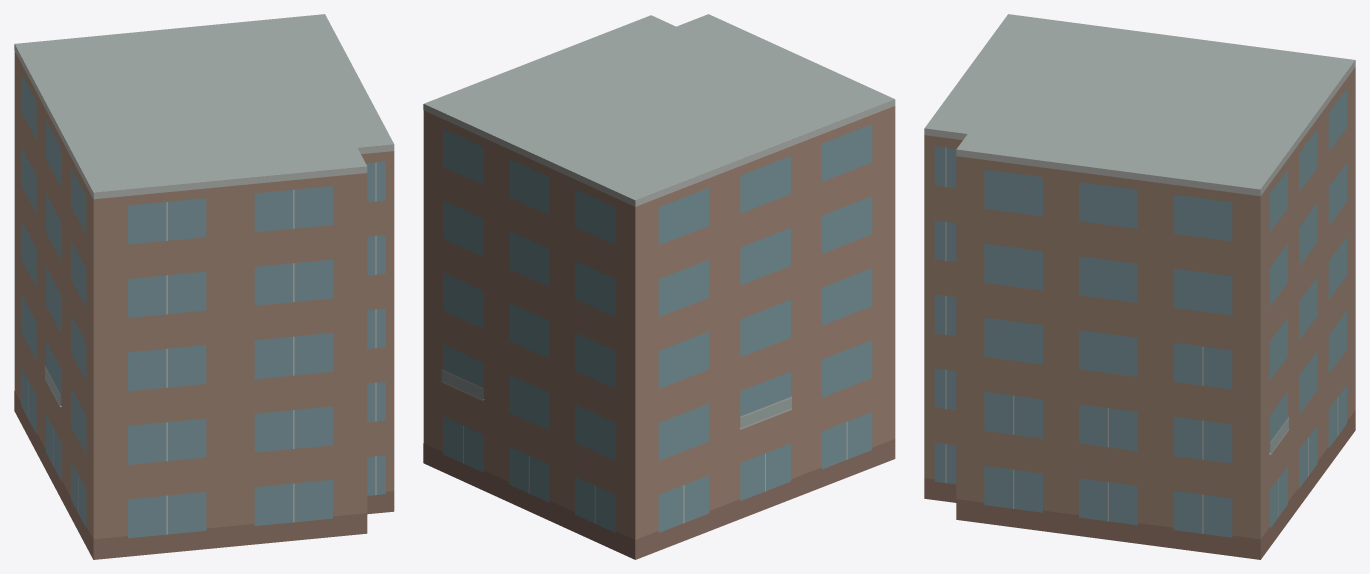
The model's file is survey-upis-32954429.glb.
3 views of the same model, side by side, from view 1: azimuth 30°, elevation 25°; view 2: azimuth 150°, elevation 25°; view 3: azimuth 270°, elevation 25° (orthographic). The views are drawn at different scales.
Visible parts, largest first — view 1: survey-upis-32954429.tmp; view 2: survey-upis-32954429.tmp; view 3: survey-upis-32954429.tmp.
Boxes of the visible parts, box(x1,y1,x2,y2) form: survey-upis-32954429.tmp: box(14, 14, 394, 559); survey-upis-32954429.tmp: box(423, 14, 895, 559); survey-upis-32954429.tmp: box(924, 14, 1355, 559).
Bounding box in the file's own units: 13.74 × 13.5 × 14.26.
